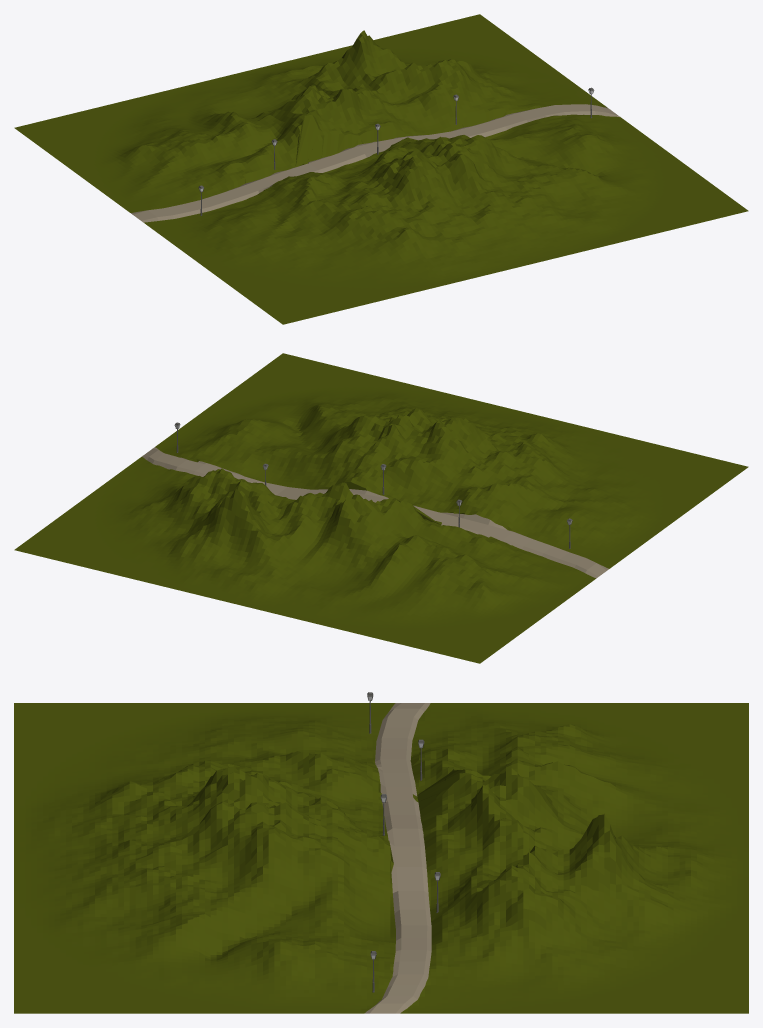
File: Park01.fbx
The picture shows the model from 3 angles, top to bottom: view 1: azimuth 30°, elevation 25°; view 2: azimuth 150°, elevation 25°; view 3: azimuth 270°, elevation 25°; orthographic projection. The views are drawn at different scales.
Parts seen in each view (by area): view 1: Terrain; view 2: Terrain; view 3: Terrain.
Part boxes in pixels (box(x1,y1,x2,y2)): Terrain: box(14, 14, 748, 324); Terrain: box(14, 353, 748, 663); Terrain: box(14, 703, 748, 1013).
Size of the model in its own units: 10500 by 1383 by 10500.
